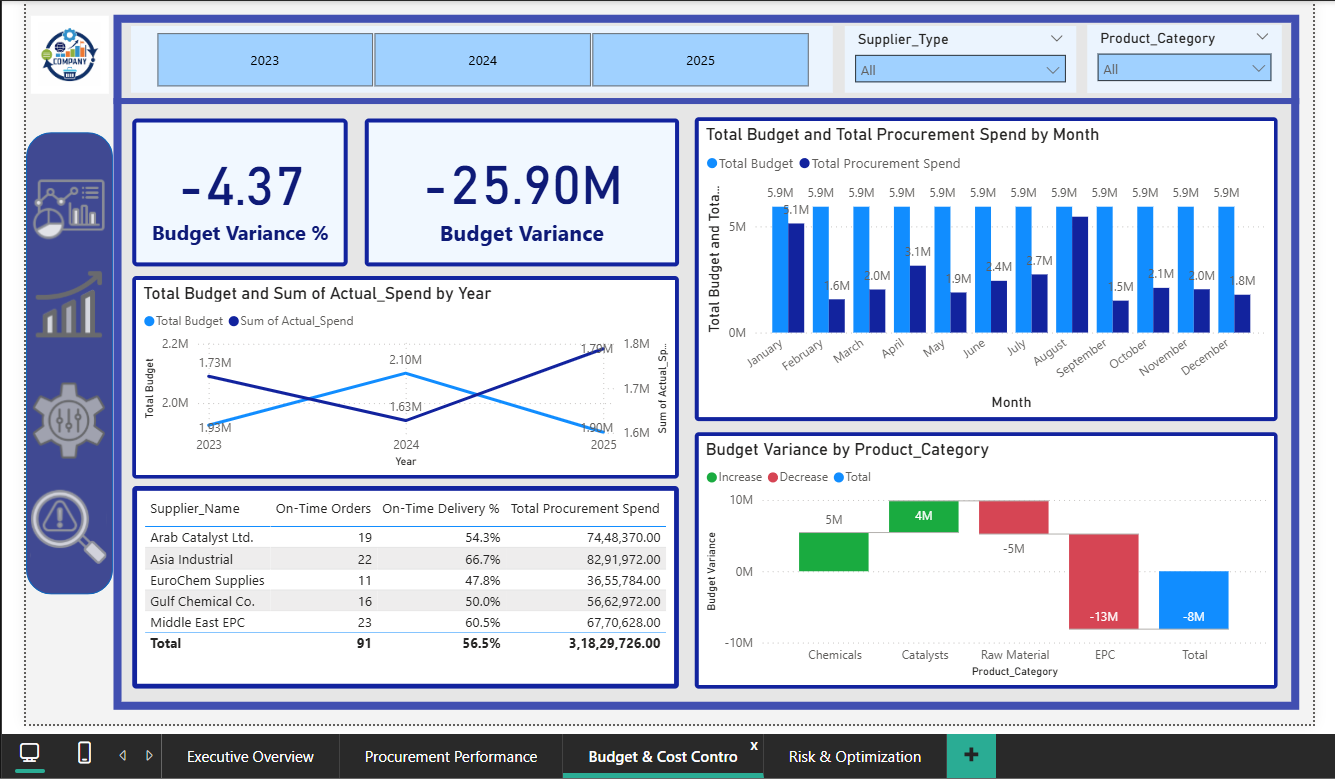

The dashboard page shown, as its layout file describes it:
{"tool":"powerbi","page":{"name":"Budget & Cost Contro","canvas":[1280,720],"ordinal":2},"visuals":[{"type":"shape","box":[0,130,86.7,460],"z":0},{"type":"shape","box":[86.7,13.3,1180,691.7],"z":1000},{"type":"shape","box":[86.7,91.7,1180,15],"z":2000},{"type":"image","box":[0,7.5,87.1,92.1],"z":3000},{"type":"actionButton","box":[0,165.9,86.6,83.7],"z":4000},{"type":"actionButton","box":[0,259.7,86.6,83.7],"z":5000},{"type":"actionButton","box":[0,375.1,86.6,83.7],"z":6000},{"type":"actionButton","box":[0,481.9,86.6,83.7],"z":7000},{"type":"clusteredColumnChart","fields":{"Category":["Date.Date.Variation.Date Hierarchy.Month"],"Y":["Table measure.Total Budget","Table measure.Total Procurement Spend"]},"box":[665.3,115.2,580.3,302.4],"z":8000},{"type":"waterfallChart","fields":{"Category":["Products.Product_Category"],"Y":["Table measure.Budget Variance"]},"box":[665.3,429.1,580.3,254.9],"z":9000},{"type":"card","fields":{"Values":["Table measure.Budget Variance"]},"box":[337,116.6,312.5,146.9],"z":10000},{"type":"card","fields":{"Values":["Table measure.Budget Variance %"]},"box":[105.1,116.6,214.6,146.9],"z":11000},{"type":"tableEx","fields":{"Values":["Suppliers.Supplier_Name","Table measure.On-Time Orders","Table measure.On-Time Delivery %","Table measure.Total Procurement Spend"]},"box":[105.1,482.4,544.3,201.6],"z":12000},{"type":"lineChart","fields":{"Y":["Table measure.Total Budget"],"Y2":["Sum(Procurement_Budget.Actual_Spend)"],"Category":["Date.Date.Variation.Date Hierarchy.Year","Date.Date.Variation.Date Hierarchy.Month","Date.Date.Variation.Date Hierarchy.Day"]},"box":[105.1,273.6,544.3,201.6],"z":13000},{"type":"slicer","fields":{"Values":["Date.Year"]},"box":[105,25,698.3,66.7],"z":14000},{"type":"slicer","fields":{"Values":["Products.Product_Category"]},"box":[1056.7,23.3,193.3,68.3],"z":15000},{"type":"slicer","fields":{"Values":["Suppliers.Supplier_Type"]},"box":[815,25,230,66.7],"z":16000}]}

Visuals, with their boxes on the page's 1280x720 design canvas (x1, y1, x2, y2). These are canvas units, not pixel positions in the 1335x779 screenshot, which may show the page scaled, cropped or inside an application window:
shape: BBox(0, 130, 87, 590)
shape: BBox(87, 13, 1267, 705)
shape: BBox(87, 92, 1267, 107)
image: BBox(0, 8, 87, 100)
actionButton: BBox(0, 166, 87, 250)
actionButton: BBox(0, 260, 87, 343)
actionButton: BBox(0, 375, 87, 459)
actionButton: BBox(0, 482, 87, 566)
clusteredColumnChart - Date.Date.Variation.Date Hierarchy.Month x Table measure.Total Budget: BBox(665, 115, 1246, 418)
waterfallChart - Products.Product_Category x Table measure.Budget Variance: BBox(665, 429, 1246, 684)
card - Table measure.Budget Variance: BBox(337, 117, 650, 264)
card - Table measure.Budget Variance %: BBox(105, 117, 320, 264)
tableEx - Suppliers.Supplier_Name x Table measure.On-Time Orders: BBox(105, 482, 649, 684)
lineChart - Table measure.Total Budget x Sum(Procurement_Budget.Actual_Spend): BBox(105, 274, 649, 475)
slicer - Date.Year: BBox(105, 25, 803, 92)
slicer - Products.Product_Category: BBox(1057, 23, 1250, 92)
slicer - Suppliers.Supplier_Type: BBox(815, 25, 1045, 92)
